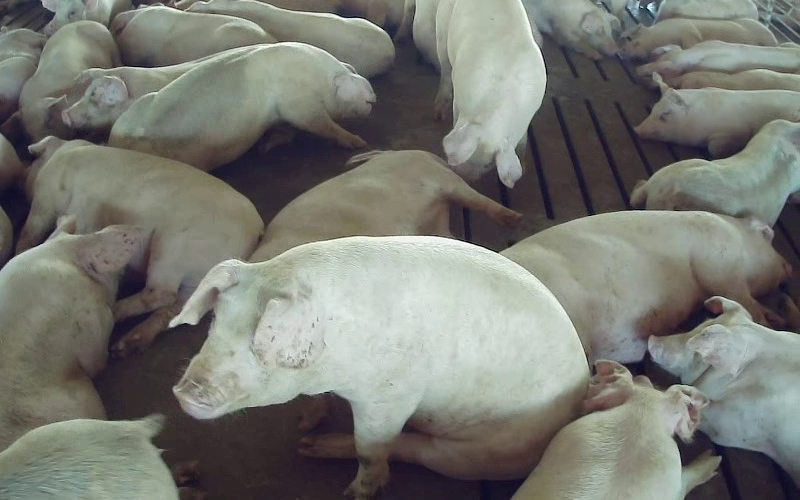pig: (171, 237, 589, 496), (17, 136, 262, 354), (502, 211, 790, 362), (109, 42, 375, 170), (0, 217, 140, 450), (249, 150, 520, 260), (512, 361, 720, 499), (648, 296, 799, 486), (435, 0, 545, 187), (631, 120, 799, 225), (187, 0, 394, 77), (0, 21, 120, 141), (635, 73, 799, 157), (62, 60, 201, 133), (110, 6, 275, 66), (623, 18, 776, 59), (637, 40, 799, 77), (523, 0, 620, 59), (669, 69, 799, 91)
